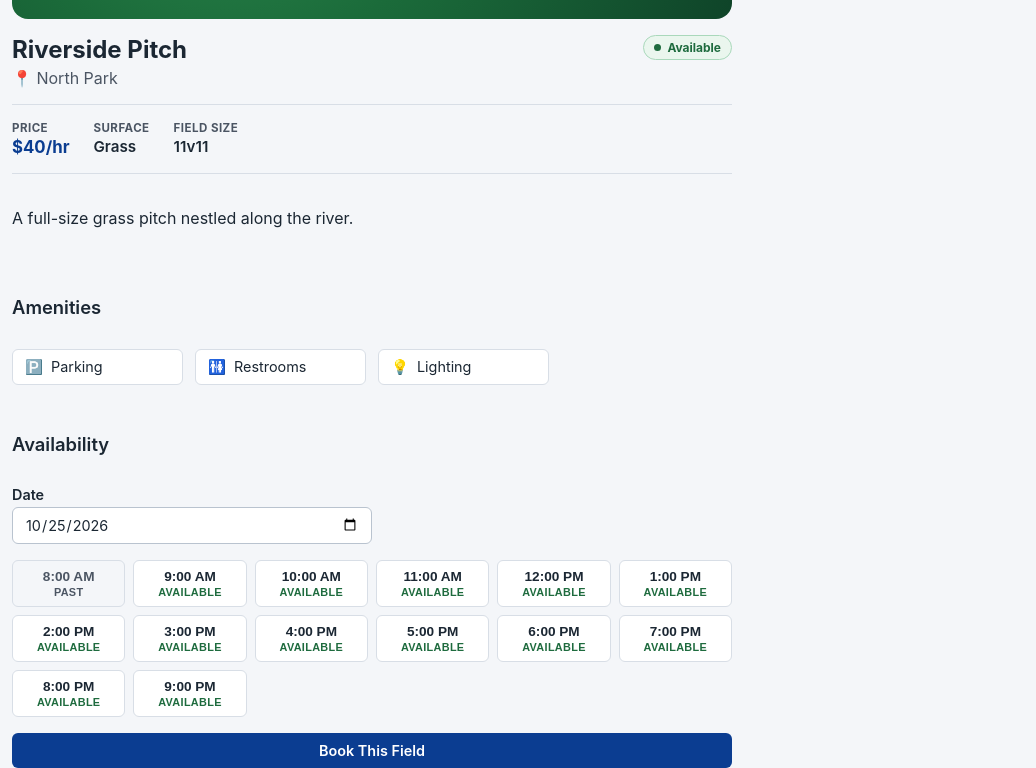
FieldDetailsPage › marks a booked hour as Booked and disabled, leaving other hours Available
(page scrolled)
In the date field labelled "Date": coordinates (192, 526) 12,507 -> 372,544, type "2026-11-01"
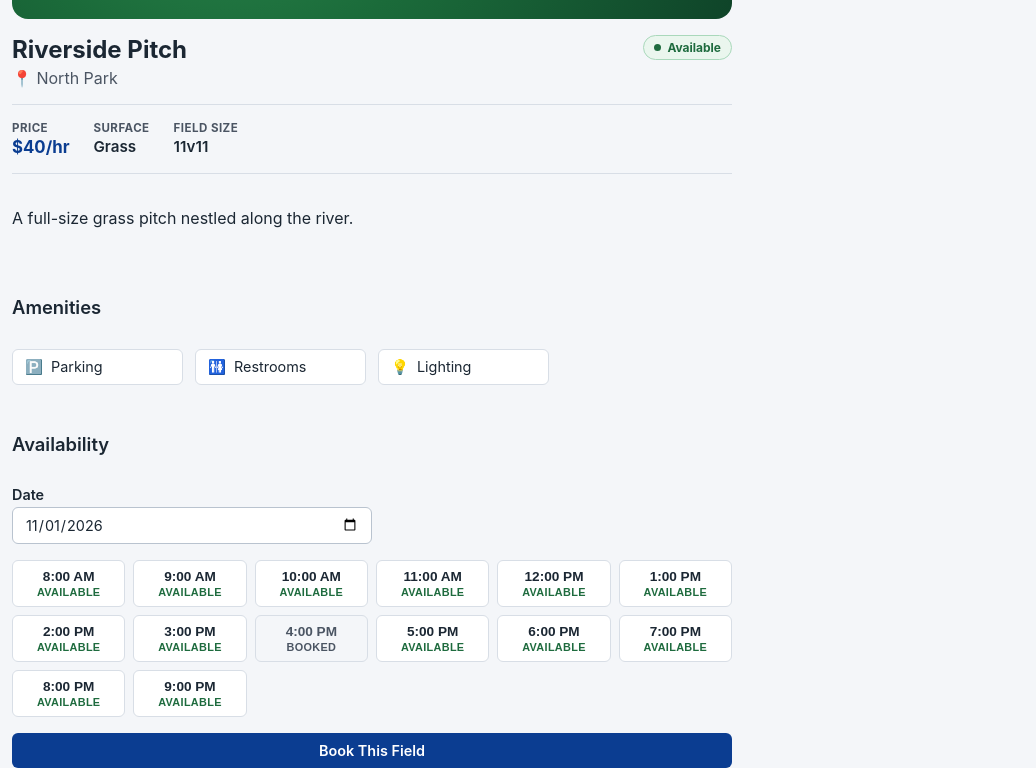
expect the button "5:00 PM Available" is enabled: met, box 376,615 -> 489,662
expect the button "4:00 PM Booked" is disabled: met, box 255,615 -> 368,662
